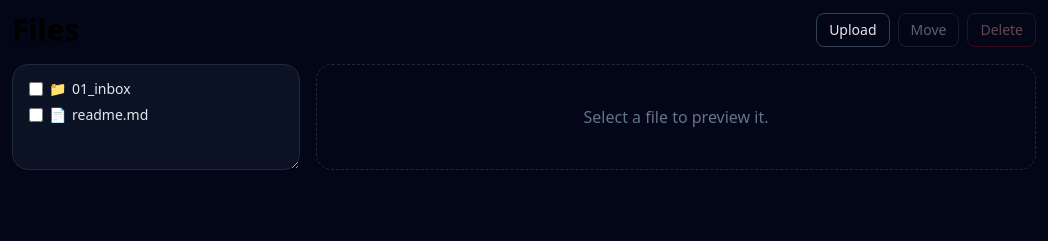
Scenario: Files page › shows rendered markdown with an Edit toggle when selecting a .md file
This screenshot has width=1048, height=241.
Click the text "readme.md" at {"x": 110, "y": 115}, box [72,105,148,125]
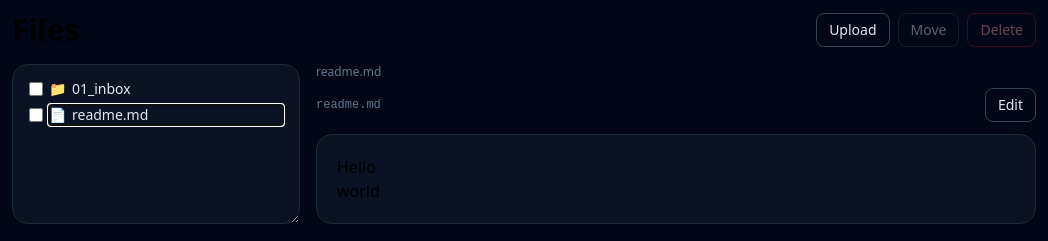
expect the heading "Hello" is shown: met, box [337,156,376,178]
expect the button "Edit" is shown: met, box [985,88,1036,122]
